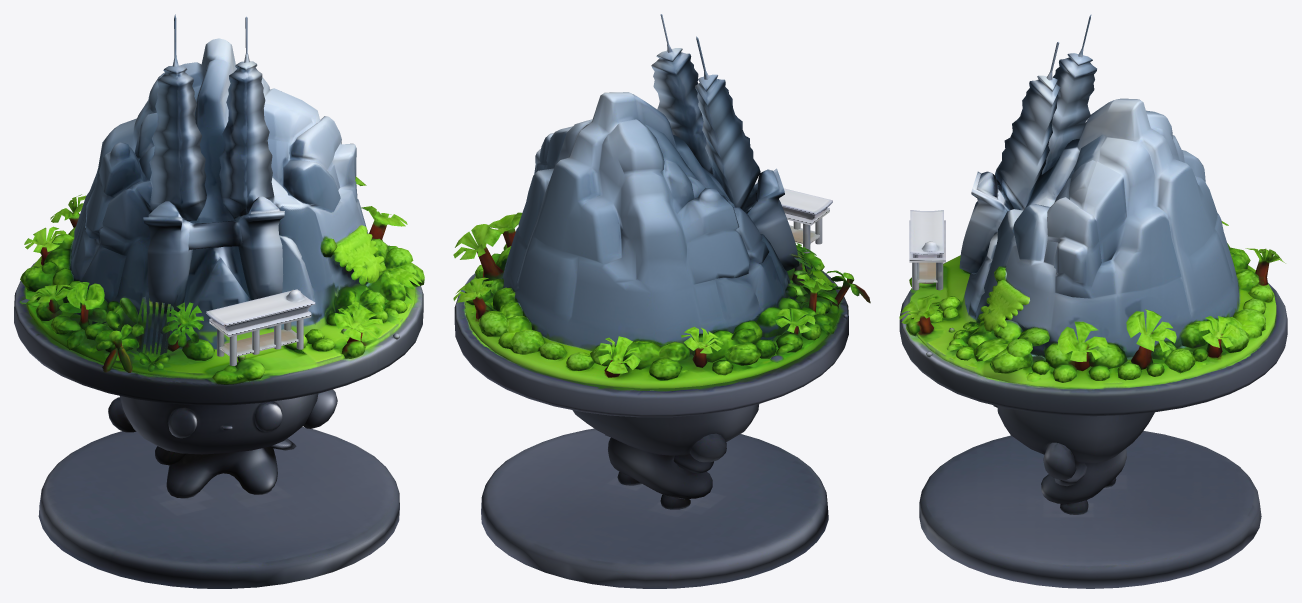
Rendered from malay-envi-2.glb.
The picture shows the model from 3 angles, left to right: view 1: azimuth 30°, elevation 25°; view 2: azimuth 150°, elevation 25°; view 3: azimuth 270°, elevation 25°; orthographic projection. The views are drawn at different scales.
Parts seen in each view (by area): view 1: tripo_node_dc05344a-430a-4535-a403-3f44f6c2de46; view 2: tripo_node_dc05344a-430a-4535-a403-3f44f6c2de46; view 3: tripo_node_dc05344a-430a-4535-a403-3f44f6c2de46.
Boxes of the visible parts, left/top/right/bottom form: tripo_node_dc05344a-430a-4535-a403-3f44f6c2de46: left=14, top=14, right=424, bottom=588; tripo_node_dc05344a-430a-4535-a403-3f44f6c2de46: left=453, top=14, right=870, bottom=588; tripo_node_dc05344a-430a-4535-a403-3f44f6c2de46: left=899, top=14, right=1287, bottom=588.
Size of the model in its own units: 0.7329 by 0.9995 by 0.729.
1 material, 1 textured.
